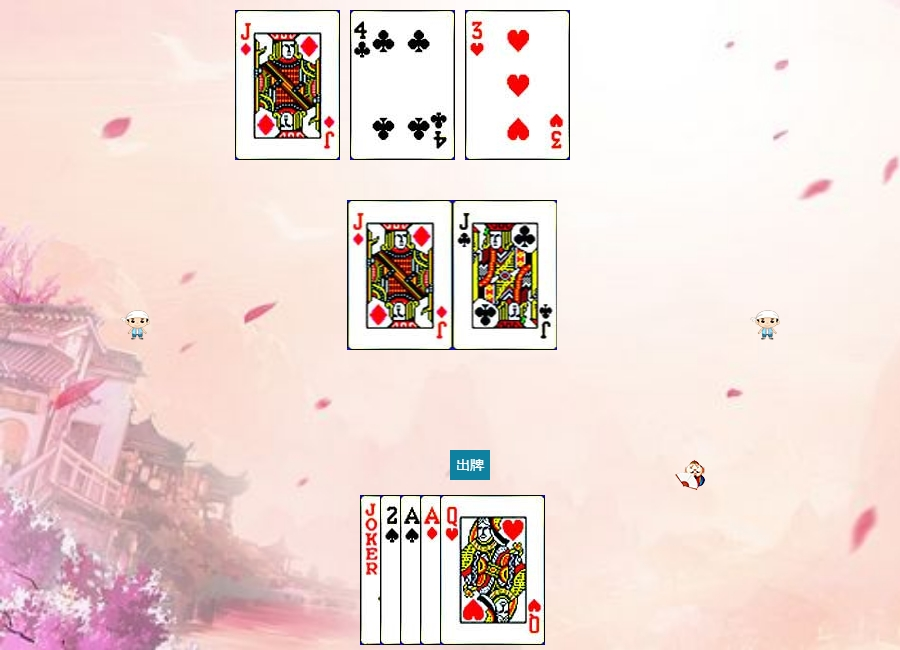11~1: (235, 10, 340, 160), (348, 200, 453, 350)
11~2: (453, 200, 558, 350)
12~3: (440, 495, 545, 645)
14~1: (420, 495, 525, 645)
14~4: (400, 495, 505, 645)
15~4: (380, 495, 485, 645)
18~4: (360, 495, 465, 645)
3~3: (465, 10, 570, 160)
4~2: (350, 10, 455, 160)
